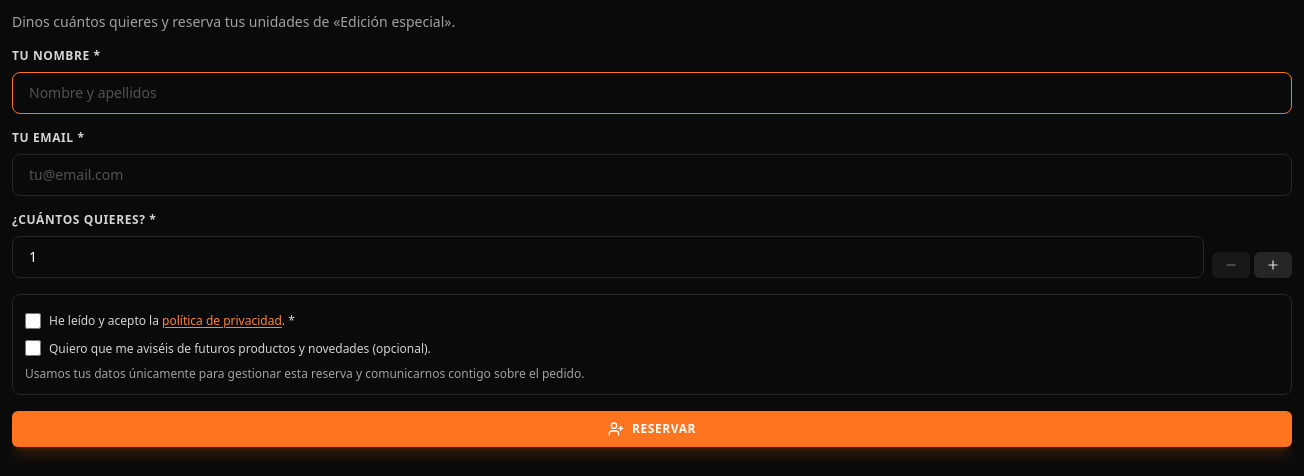
Scenario: WorkshopSignupForm · unidades en especiales › suma y resta unidades con los botones
Check: the number field labelled "¿Cuántos quieres? *" holds "1", box [12,236,1204,278]
Check: the button named "Quitar una unidad" is disabled, box [1212,252,1250,278]
Step 1. Click the button named "Añadir una unidad" → click(1273, 265), box [1254,252,1292,278]
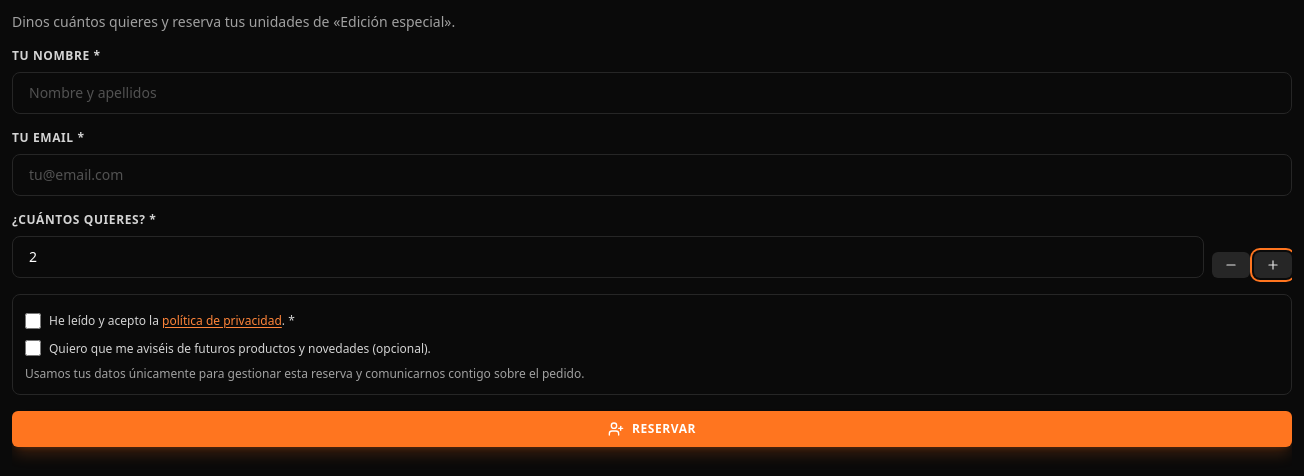
Check: the number field labelled "¿Cuántos quieres? *" holds "2", box [12,236,1204,278]
